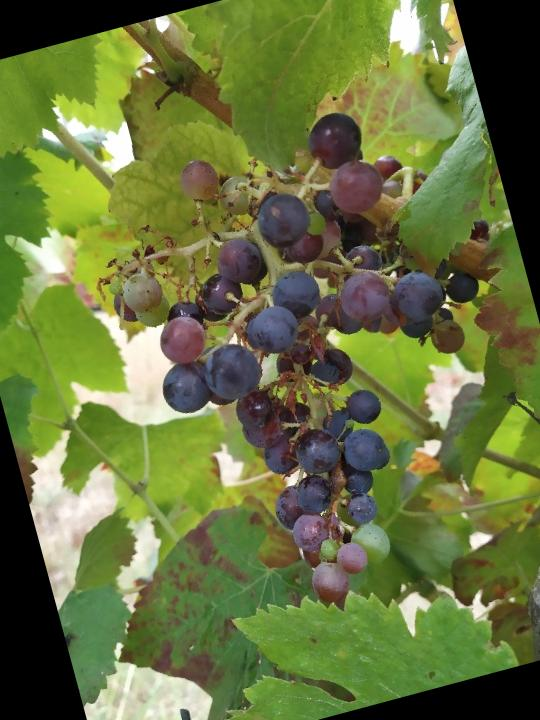grape: (67, 78, 540, 641)
